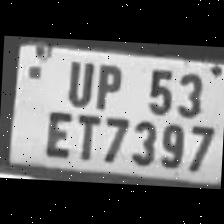3: (126, 111, 158, 168), (172, 65, 204, 117)
5: (142, 64, 176, 114)
7: (182, 118, 215, 174), (97, 111, 128, 165)
9: (154, 115, 184, 171)
E: (40, 104, 74, 162)
P: (89, 58, 126, 111)
T: (68, 108, 100, 164)
U: (60, 54, 95, 106)
